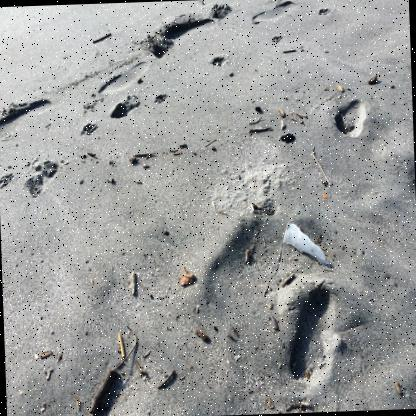Other plastic bottle: (283, 223, 329, 264), (323, 194, 327, 198)
